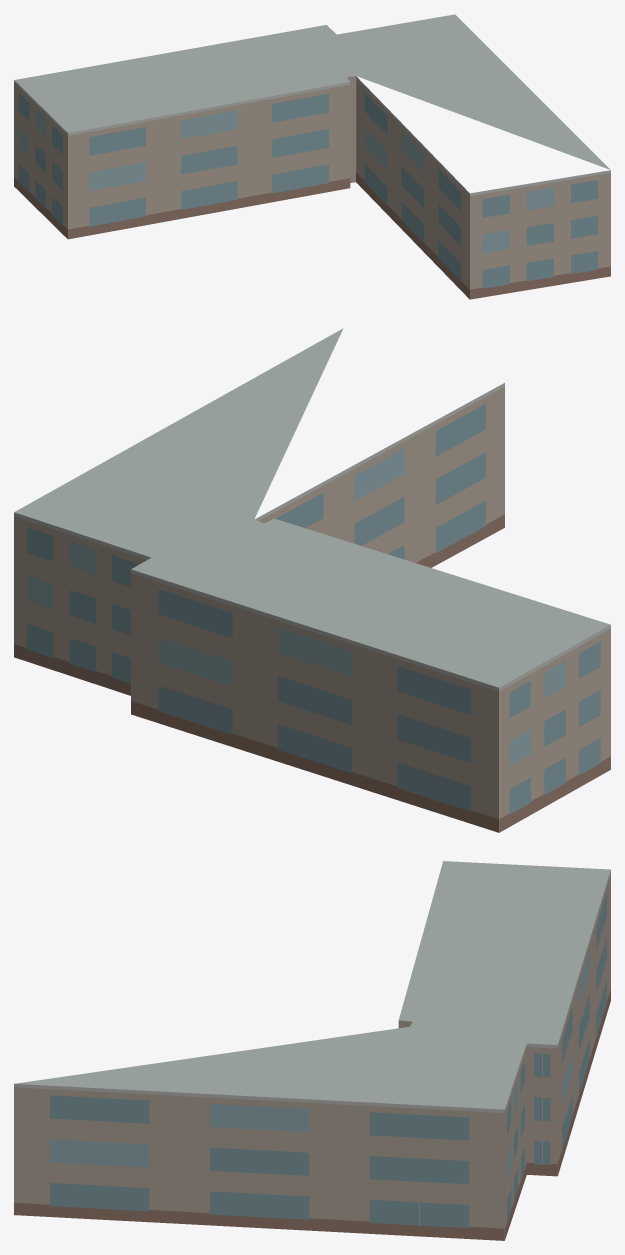
File: survey-upis-32470824.glb
The picture shows the model from 3 angles, top to bottom: view 1: azimuth 30°, elevation 25°; view 2: azimuth 150°, elevation 25°; view 3: azimuth 270°, elevation 25°; orthographic projection. The views are drawn at different scales.
Parts seen in each view (by area): view 1: survey-upis-32470824.tmp; view 2: survey-upis-32470824.tmp; view 3: survey-upis-32470824.tmp.
Part boxes in pixels (<box>): survey-upis-32470824.tmp: <box>14,14,610,299</box>; survey-upis-32470824.tmp: <box>14,328,610,832</box>; survey-upis-32470824.tmp: <box>14,861,610,1240</box>.
Bounding box in the file's own units: 37.16 × 9.15 × 37.71.
